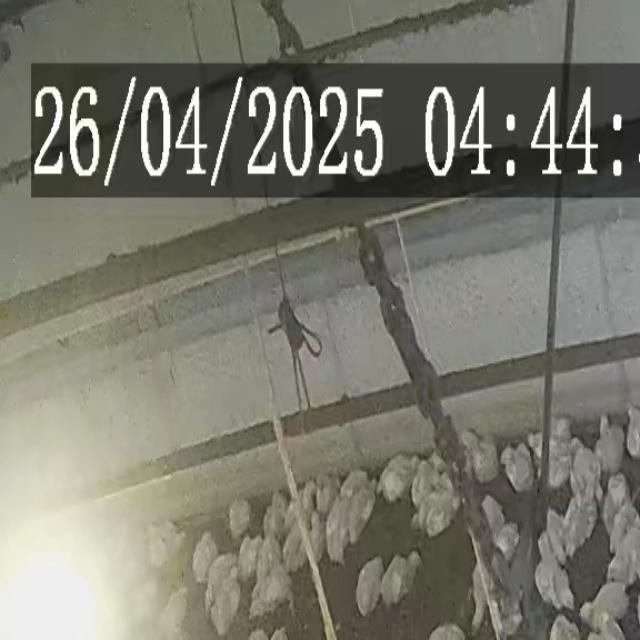chicken: (249, 567, 293, 615), (384, 553, 419, 603), (501, 440, 535, 491), (466, 425, 498, 479), (590, 583, 632, 624), (569, 445, 600, 499), (278, 510, 306, 568), (348, 485, 377, 540), (544, 557, 574, 609), (356, 556, 385, 609), (595, 417, 621, 476), (381, 455, 417, 497), (210, 569, 235, 628), (148, 524, 183, 565), (477, 492, 505, 541), (408, 462, 435, 509), (492, 514, 516, 566), (192, 527, 215, 581), (303, 511, 326, 563), (546, 514, 566, 568), (238, 533, 259, 582), (342, 469, 367, 506), (208, 551, 235, 585), (327, 514, 346, 562), (258, 533, 279, 574), (626, 402, 640, 459), (232, 500, 252, 538)
